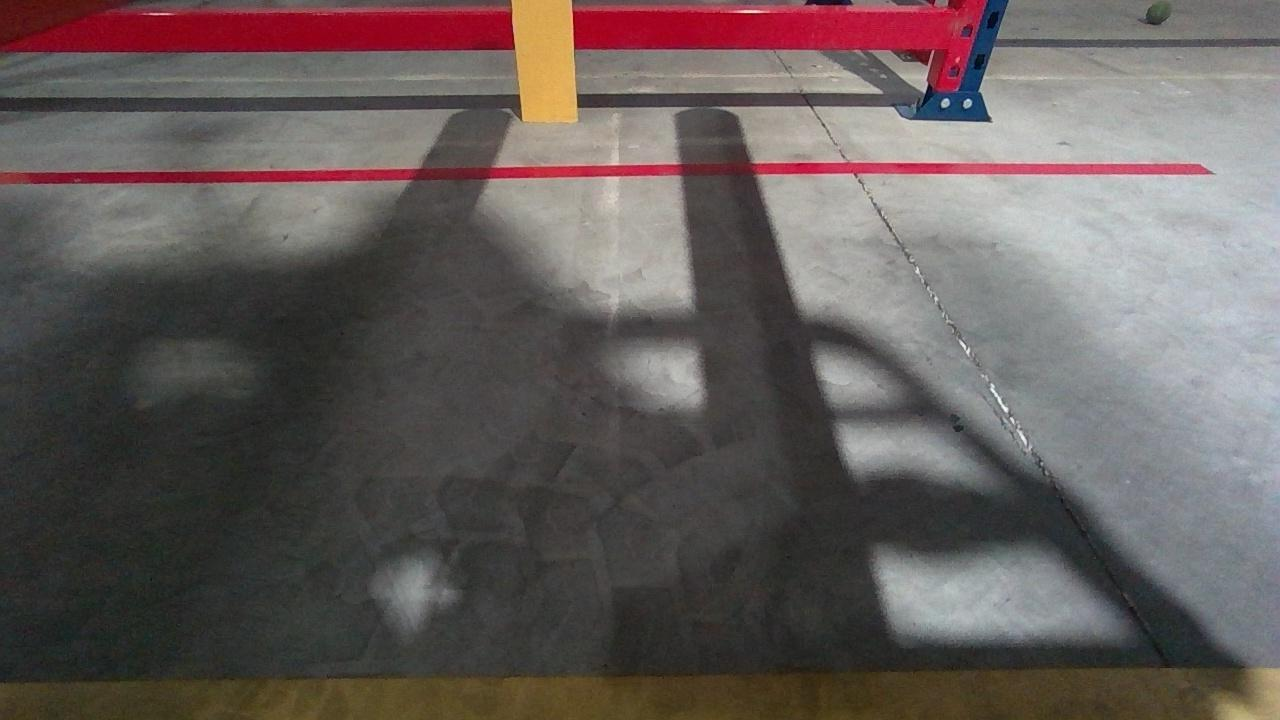h_rack: (2, 9, 958, 53)
orange_strip: (508, 1, 577, 122)
red_line: (0, 160, 1207, 178)
yellow_line: (0, 666, 1280, 717)
